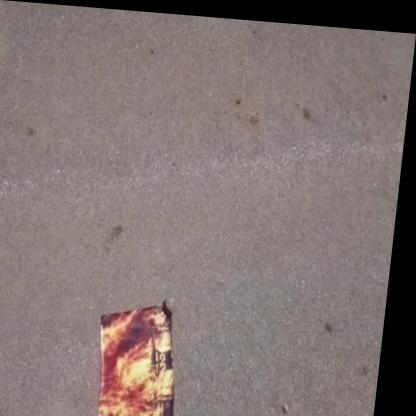fire-poster: (97, 289, 197, 416)
